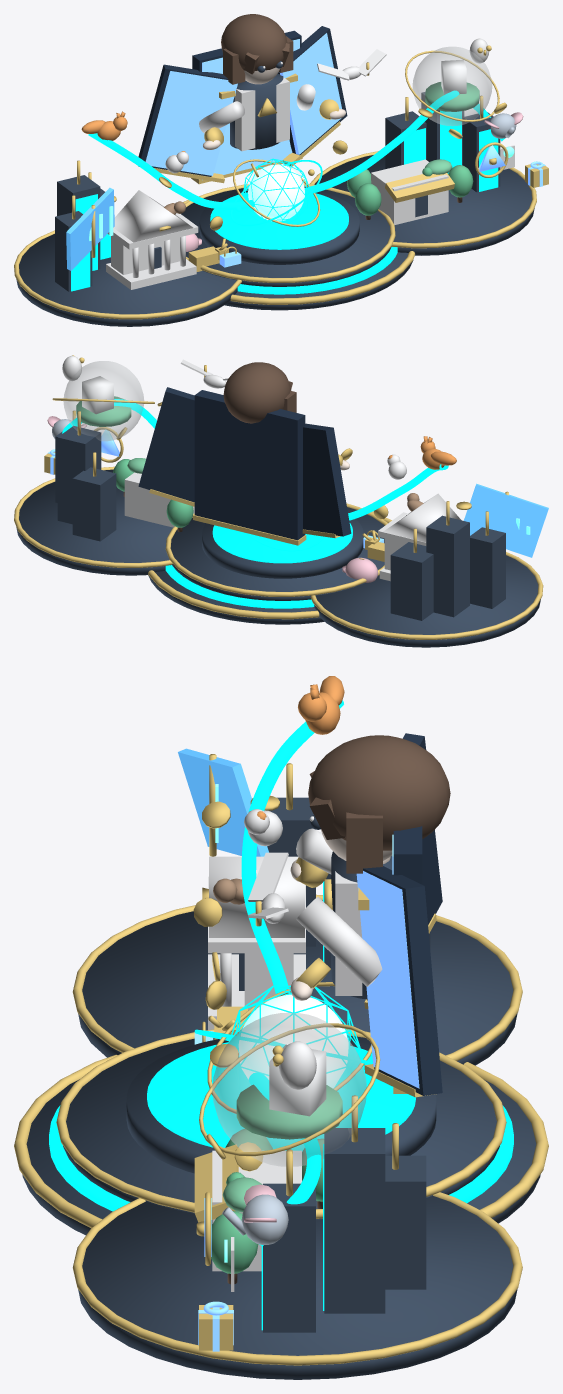
Rendered from central_guide_hero.glb.
3 views of the same model, one above another, from view 1: azimuth 30°, elevation 25°; view 2: azimuth 150°, elevation 25°; view 3: azimuth 270°, elevation 25° (orthographic). The views are drawn at different scales.
Parts seen in each view (by area): view 1: Platform_L, Platform_R, Char_Cape_Wing_L_In, Dais_Base_L1, Biosphere_Glass, Dais_Emitter_Ring, Char_Cape_Wing_R_In, Dais_Core_Pedestal, Char_Hair_Top, Shop_Body, Holo_Core_Sphere, Bank_Pediment (+44 smaller); view 2: Char_Cape_Back, Platform_L, Platform_R, Dais_Base_L1, Biosphere_Glass, Char_Cape_Wing_R, Char_Cape_Wing_L, Skyscraper_L_0, Chart_HUD_Frame, Dais_Core_Pedestal, Char_Hair_Top, Skyscraper_L_2 (+22 smaller); view 3: Platform_R, Platform_L, Biosphere_Glass, Dais_Base_L1, Skyscraper_R_0, Char_Hair_Top, Dais_Emitter_Ring, Char_Cape_Wing_R_In, Platform_R_Gold_Rim, Skyscraper_R_1, Dais_Base_L0, Dais_Core_Pedestal (+34 smaller).
Part boxes in pixels (box(x1,y1,x2,y2)): Platform_L: box(16, 234, 237, 326); Platform_R: box(314, 155, 534, 255); Char_Cape_Wing_L_In: box(145, 71, 237, 175); Dais_Base_L1: box(181, 186, 391, 286); Biosphere_Glass: box(412, 46, 492, 126); Dais_Emitter_Ring: box(210, 192, 348, 249); Char_Cape_Wing_R_In: box(279, 33, 341, 154); Dais_Core_Pedestal: box(199, 190, 359, 264); Char_Hair_Top: box(221, 14, 287, 70); Shop_Body: box(371, 159, 448, 224); Holo_Core_Sphere: box(248, 164, 304, 221); Bank_Pediment: box(113, 190, 193, 242); Char_Cape_Back: box(194, 390, 305, 540); Platform_L: box(314, 555, 540, 647); Platform_R: box(16, 469, 172, 575); Dais_Base_L1: box(170, 507, 384, 600); Biosphere_Glass: box(63, 361, 144, 441); Char_Cape_Wing_R: box(138, 387, 194, 502); Char_Cape_Wing_L: box(303, 423, 351, 536); Skyscraper_L_0: box(426, 515, 469, 617); Chart_HUD_Frame: box(463, 483, 548, 557); Dais_Core_Pedestal: box(202, 519, 363, 578); Char_Hair_Top: box(223, 362, 291, 423); Skyscraper_L_2: box(390, 542, 433, 620); Platform_R: box(78, 1196, 517, 1379); Platform_L: box(78, 900, 517, 1065); Biosphere_Glass: box(212, 1012, 366, 1166); Dais_Base_L1: box(63, 1035, 499, 1219); Skyscraper_R_0: box(324, 1128, 385, 1313); Char_Hair_Top: box(308, 735, 450, 850); Dais_Emitter_Ring: box(147, 1042, 415, 1151); Char_Cape_Wing_R_In: box(356, 871, 419, 1088); Platform_R_Gold_Rim: box(72, 1192, 522, 1365); Skyscraper_R_1: box(263, 1183, 315, 1332); Dais_Base_L0: box(22, 1079, 540, 1235); Dais_Core_Pedestal: box(126, 1039, 436, 1173).
Size of the model in its own units: 13.58 by 5.7 by 6.56.
